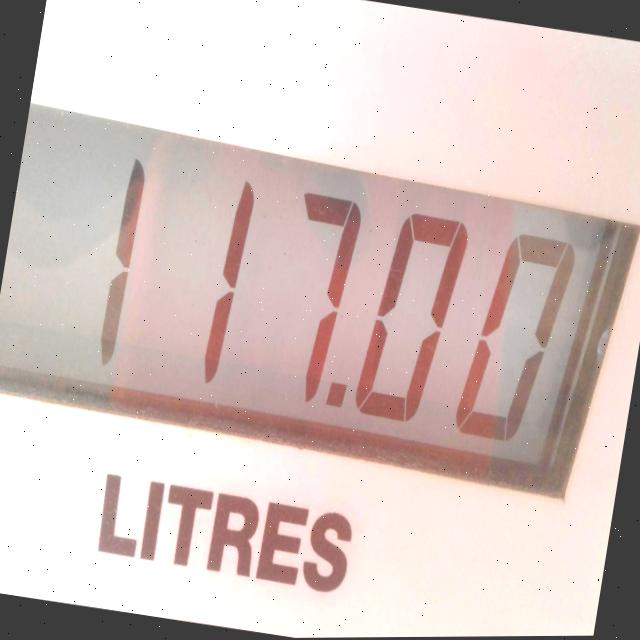.: (310, 363, 363, 433)
0: (442, 214, 572, 466), (352, 198, 476, 430)
1: (165, 148, 278, 401), (59, 156, 177, 392)
7: (257, 178, 360, 436)
